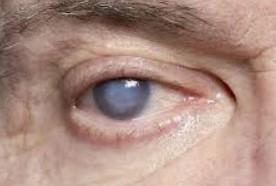eye: (92, 78, 151, 121)
